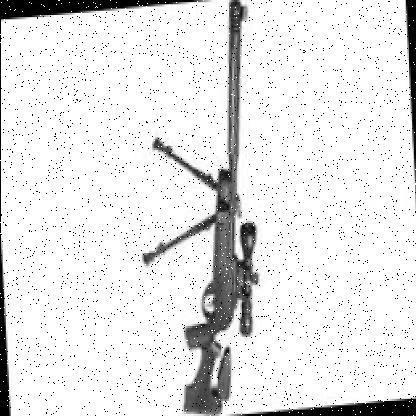rifle: (160, 0, 284, 416)
